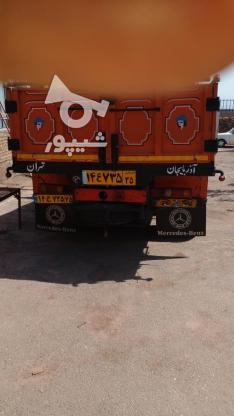car: (81, 170, 135, 184), (33, 194, 74, 204)
